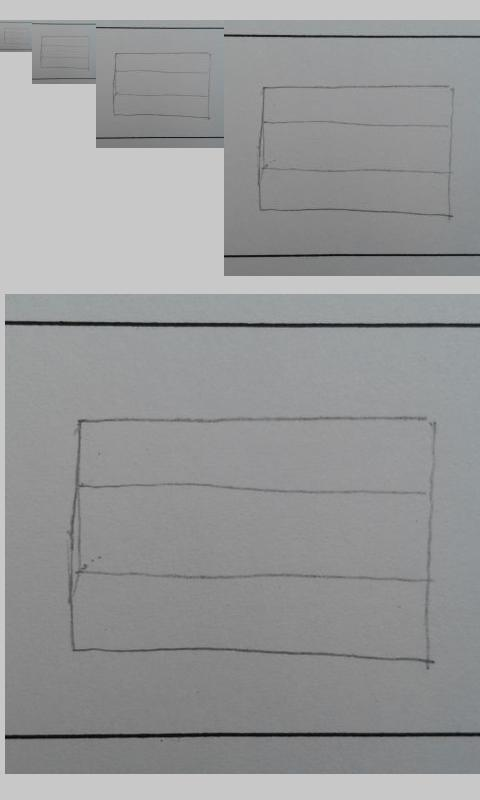list_view: (67, 413, 441, 664), (257, 84, 456, 220), (111, 51, 213, 120), (39, 34, 91, 72), (3, 27, 31, 45)
